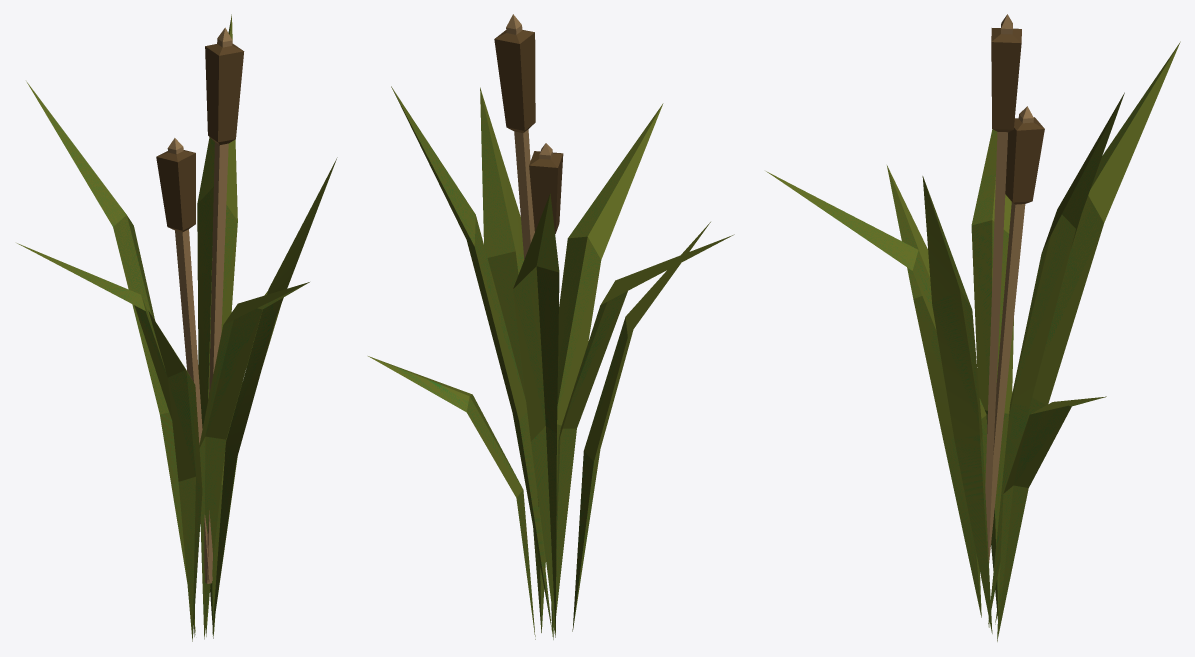
The model's file is Plant_07_LOD1.fbx.
The picture shows the model from 3 angles, left to right: view 1: azimuth 30°, elevation 25°; view 2: azimuth 150°, elevation 25°; view 3: azimuth 270°, elevation 25°; orthographic projection. The views are drawn at different scales.
Parts seen in each view (by area): view 1: polySurface132; view 2: polySurface132; view 3: polySurface132.
Part boxes in pixels (x1,y1,x2,y2): polySurface132: [17, 14, 337, 641]; polySurface132: [368, 14, 734, 639]; polySurface132: [766, 14, 1180, 641].
Size of the model in its own units: 164 by 309 by 183.
